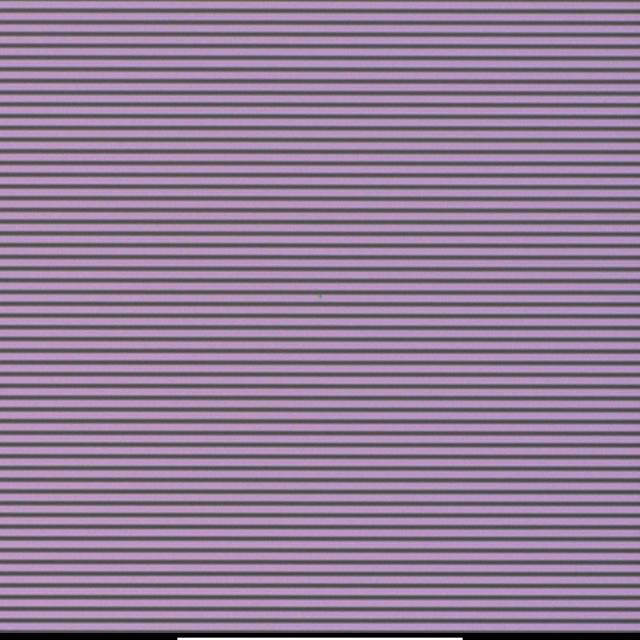nonvisual: (316, 289, 324, 303)
